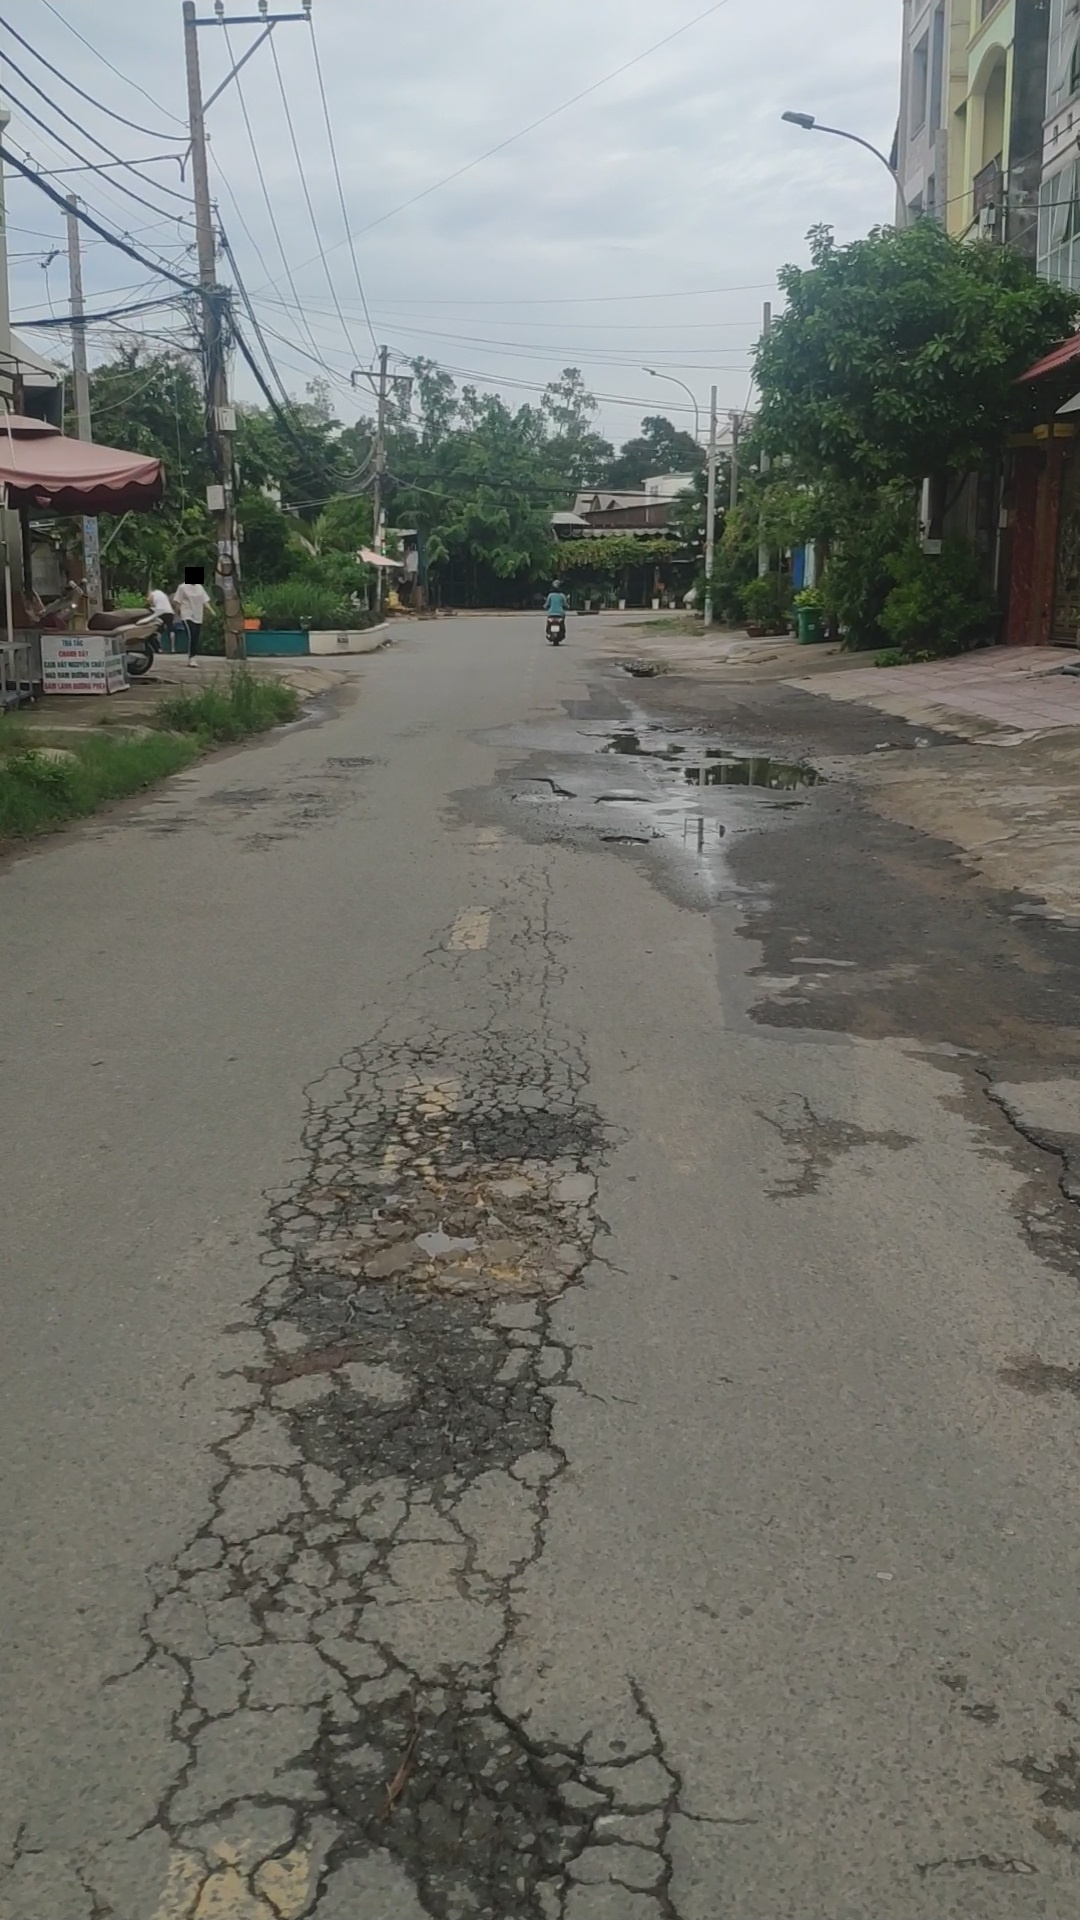hole: (309, 1662, 607, 1920), (330, 1155, 593, 1313), (305, 1364, 593, 1493), (659, 745, 831, 793), (574, 716, 669, 760), (651, 804, 735, 845), (502, 770, 579, 807), (607, 655, 669, 684), (591, 790, 650, 811), (320, 752, 381, 769), (596, 832, 655, 847)
